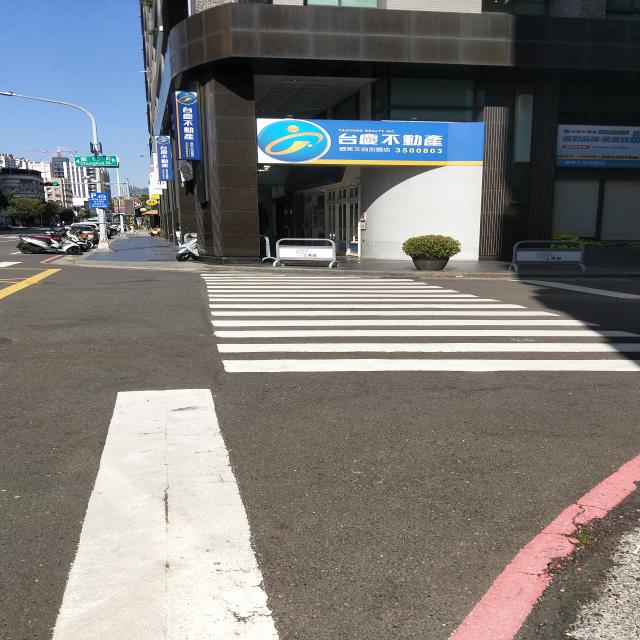zebra crossing: (205, 273, 640, 372)
